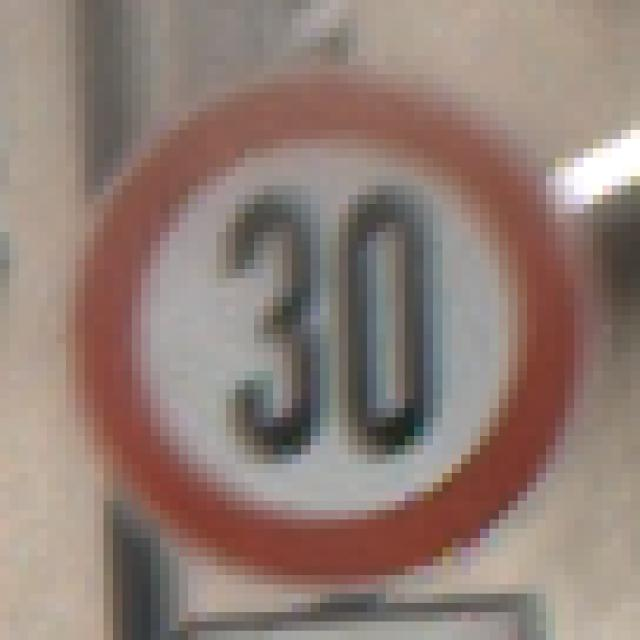Speed Limit -30-: (61, 65, 579, 575)
